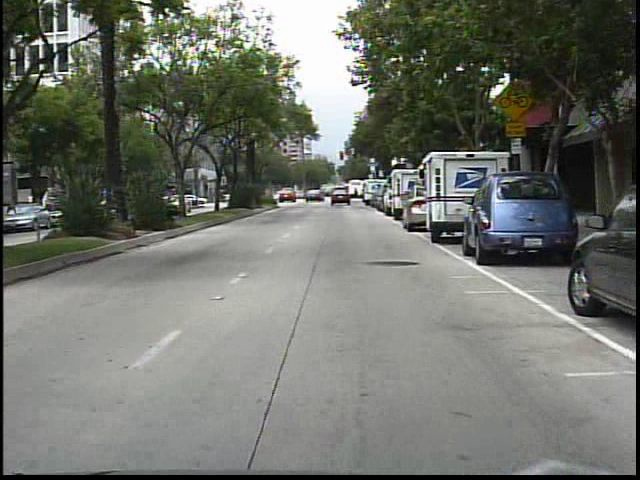person: (353, 183, 361, 204)
